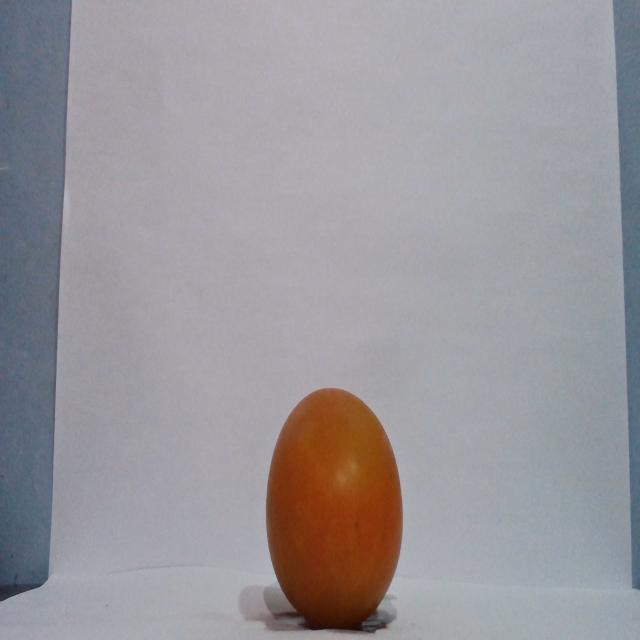Red: (264, 385, 404, 629)
